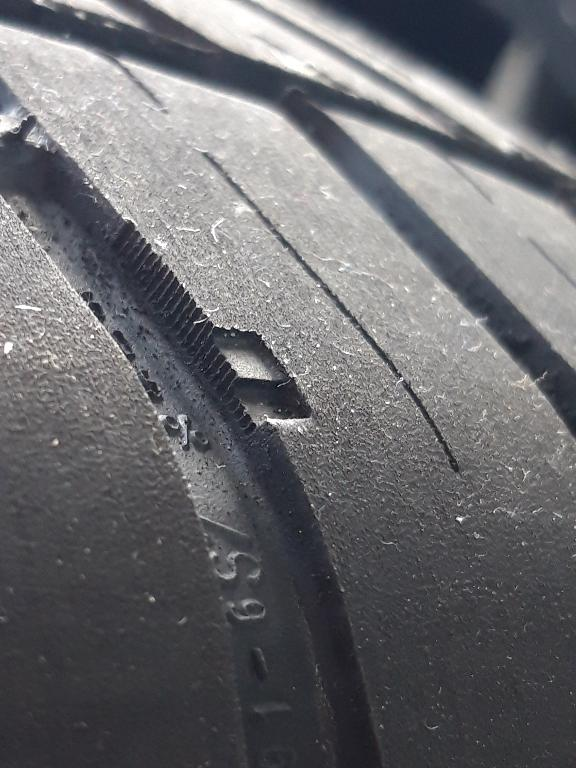temoin:25: (186, 321, 323, 457)
